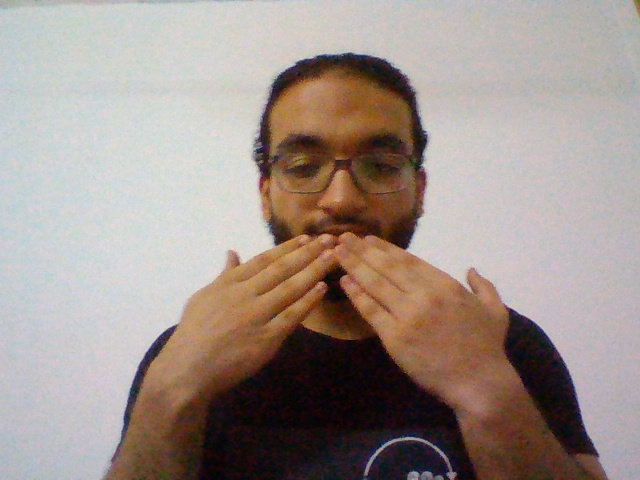Thanks: (139, 224, 537, 417)
